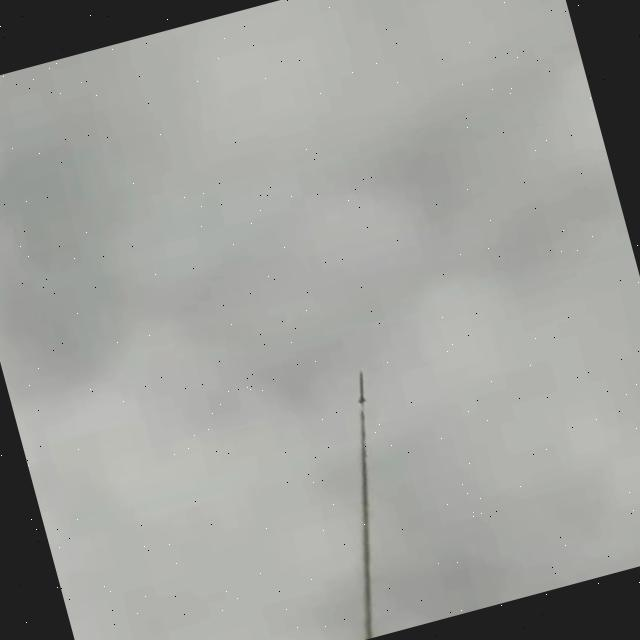smoke_trail_with_rocket: (355, 371, 376, 640)
